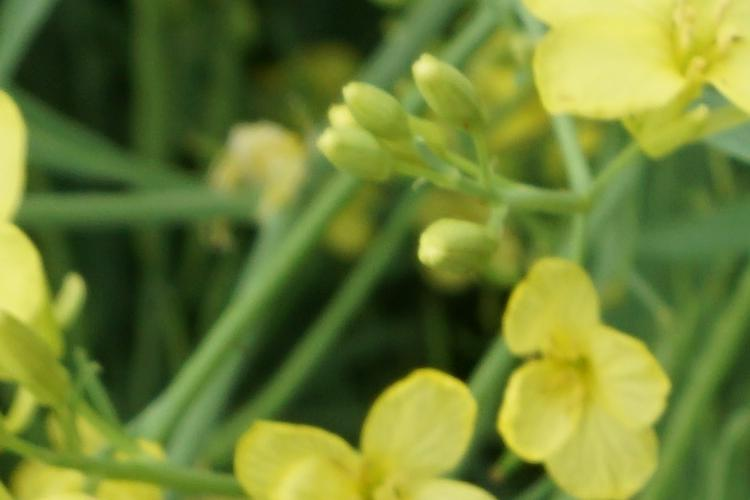bud: (409, 48, 518, 138), (414, 205, 500, 294), (332, 75, 416, 144), (317, 120, 397, 184)
yellow: (505, 272, 685, 497), (228, 355, 486, 500), (546, 12, 744, 141)
